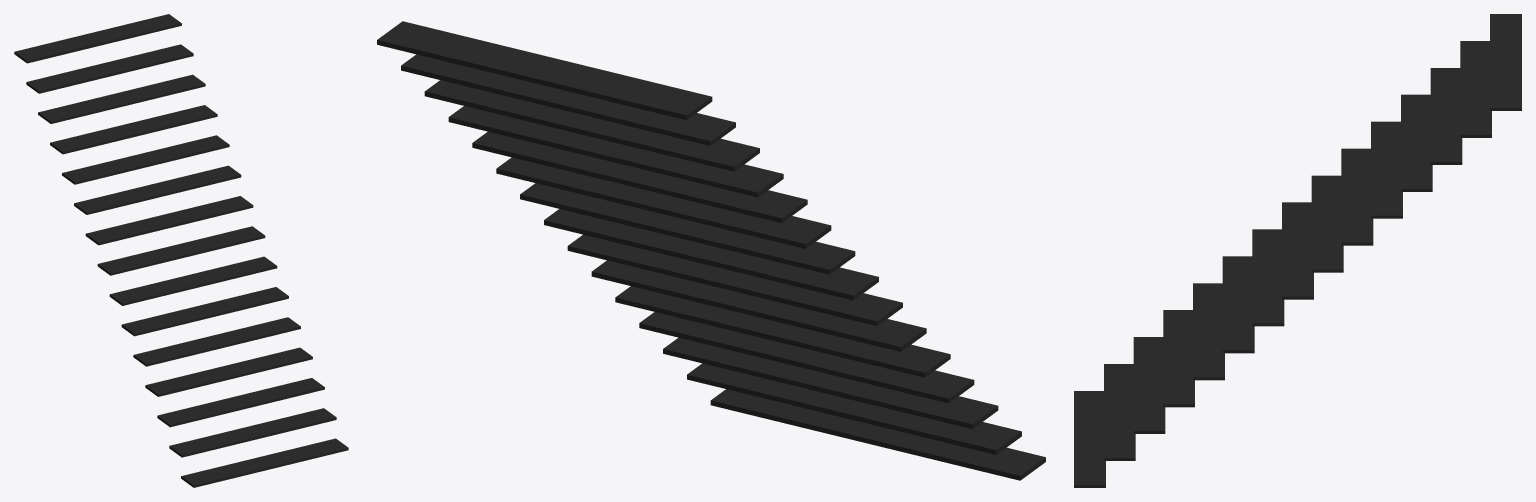
Rendered from floatingStairs.glb.
The picture shows the model from 3 angles, left to right: view 1: azimuth 30°, elevation 25°; view 2: azimuth 150°, elevation 25°; view 3: azimuth 270°, elevation 25°; orthographic projection. The views are drawn at different scales.
Parts seen in each view (by area): view 1: Stair_floating; view 2: Stair_floating; view 3: Stair_floating.
Boxes of the visible parts, left/top/right/bottom form: Stair_floating: left=14, top=14, right=348, bottom=487; Stair_floating: left=377, top=21, right=1045, bottom=480; Stair_floating: left=1074, top=14, right=1521, bottom=487.
Size of what is drawn, in the model's own units: 2 by 3.76 by 4.02.
Materials: 1 (1 with a texture image).
